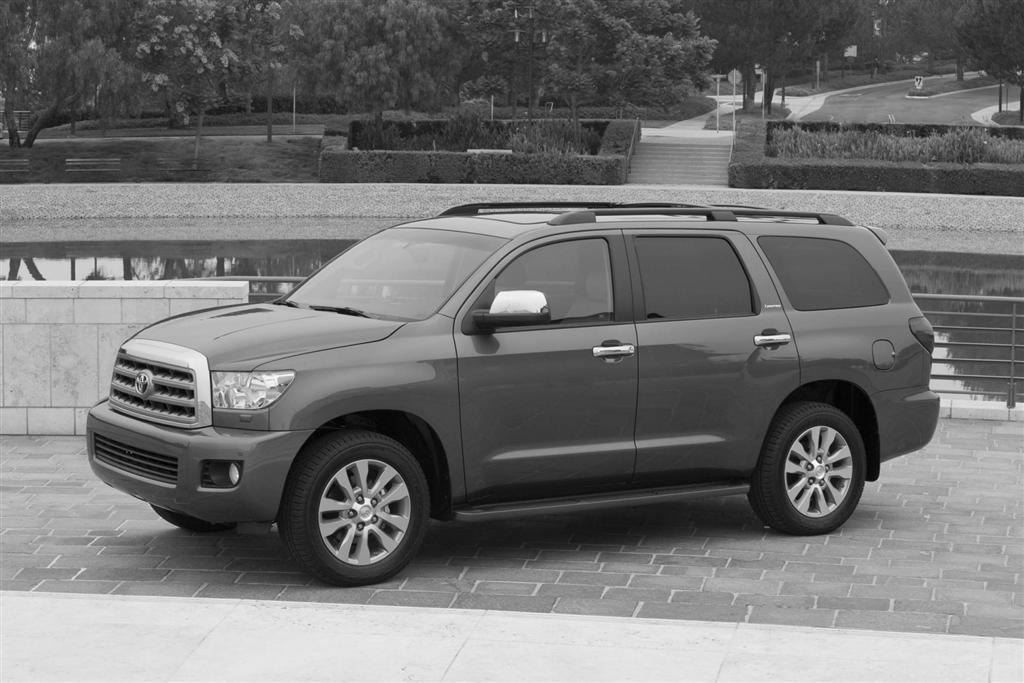car: (80, 198, 940, 583)
